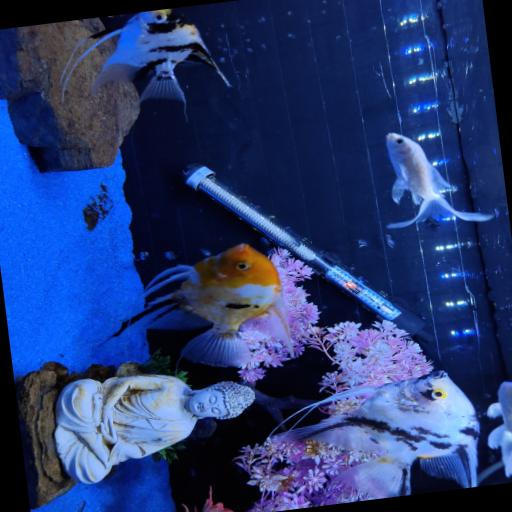Fish: (271, 371, 478, 498), (114, 244, 292, 366), (61, 9, 229, 106), (386, 133, 492, 228), (487, 382, 511, 476)
